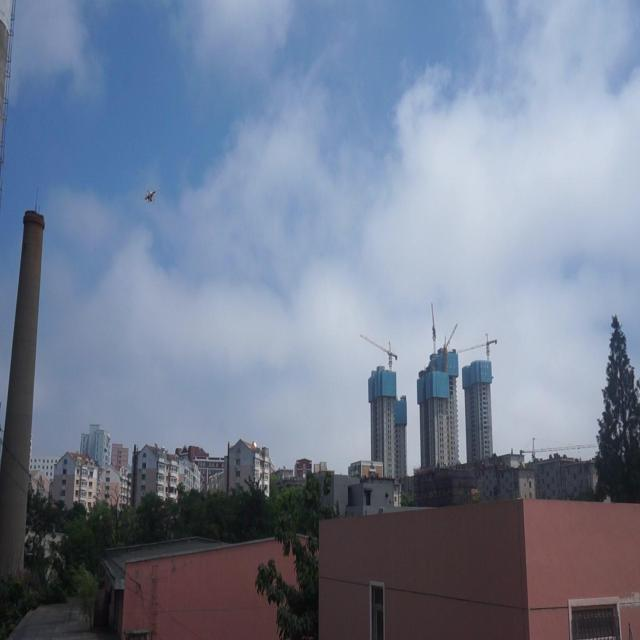drone: (139, 186, 161, 207)
